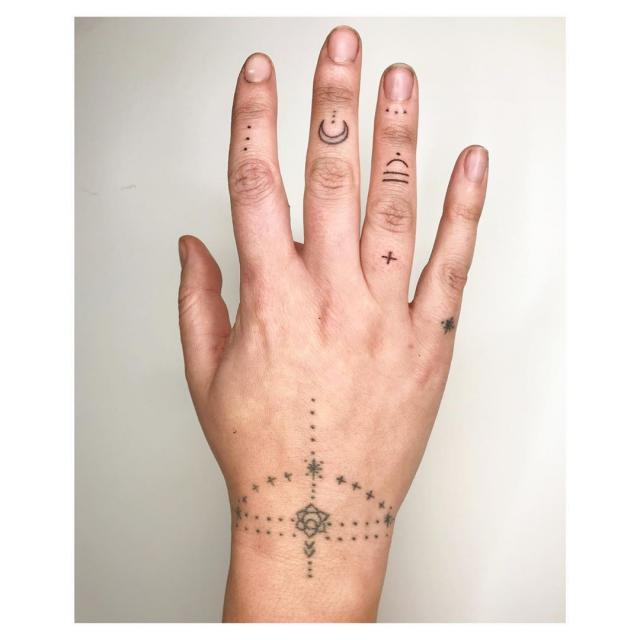bare_hand: (178, 25, 490, 587)
